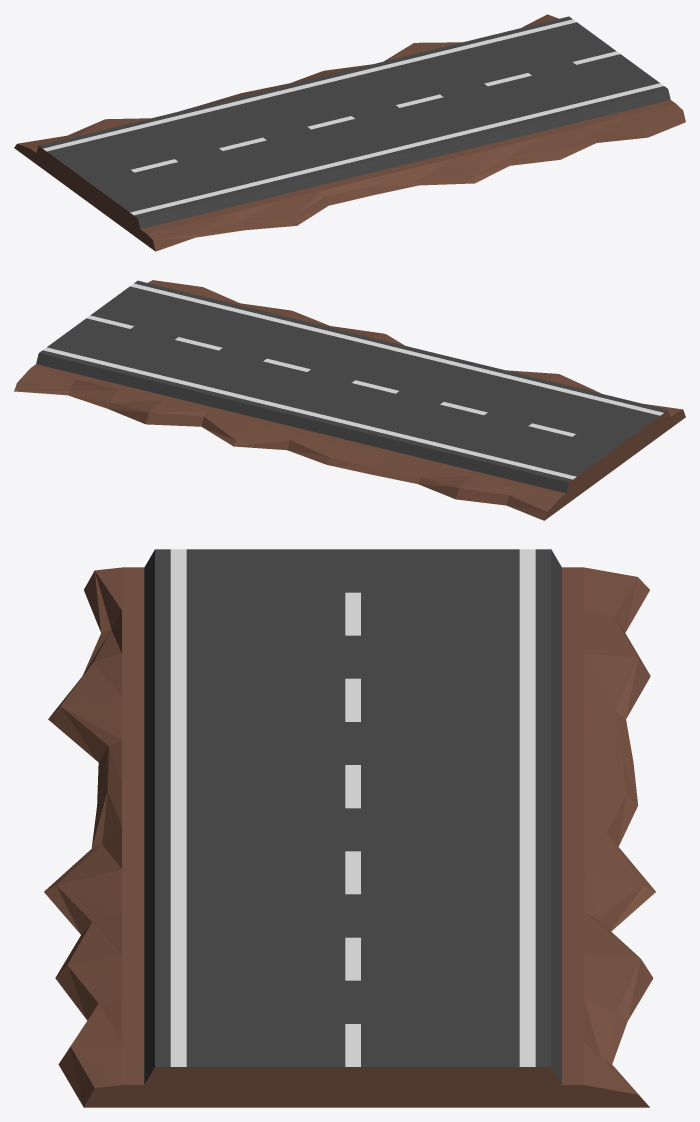
The model's file is Road.glb.
The picture shows the model from 3 angles, top to bottom: view 1: azimuth 30°, elevation 25°; view 2: azimuth 150°, elevation 25°; view 3: azimuth 270°, elevation 25°; orthographic projection. The views are drawn at different scales.
Visible parts, largest first — view 1: Road; view 2: Road; view 3: Road.
Boxes of the visible parts, x1,y1,x2,y2 form: Road: [14, 14, 685, 251]; Road: [14, 280, 685, 520]; Road: [44, 549, 655, 1107].
Bounding box in the file's own units: 200 × 7.31 × 100.
1 material, 1 textured.
